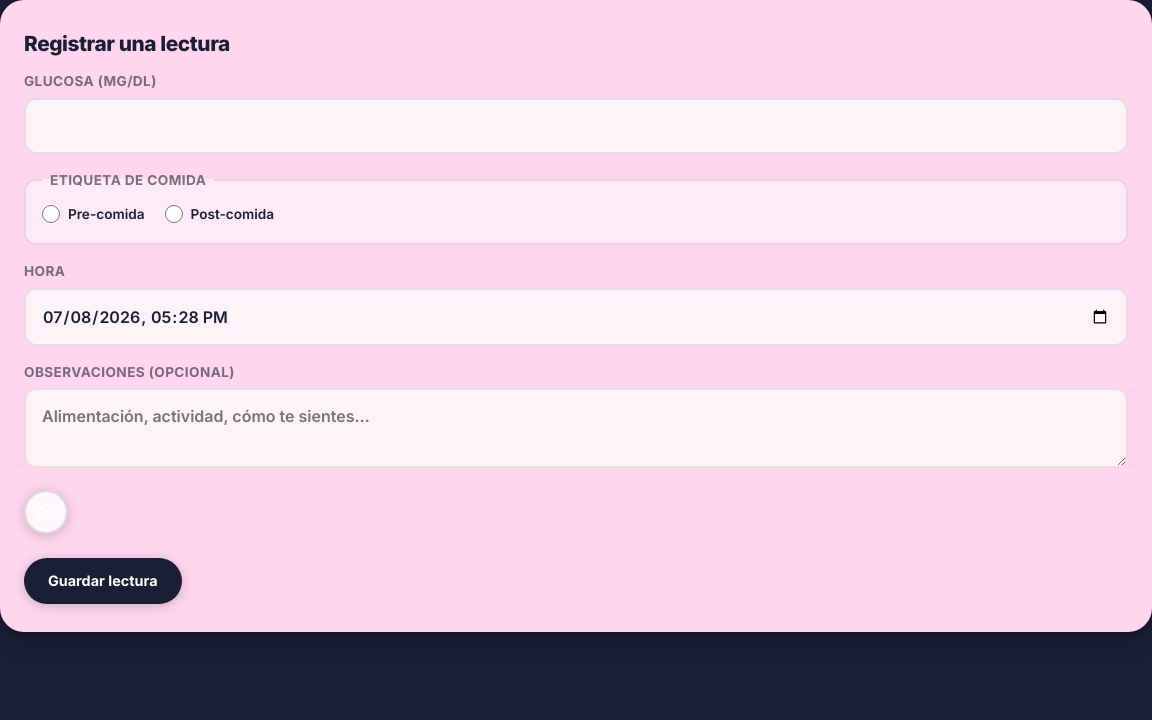
Scenario: QuickRecord validation and persist-failure notice › persists a valid reading and shows a success status (Req 5.6 success path)
Step 1. Type "120" into the number field labelled "Glucosa (mg/dL)" → (576, 126), box x1=24 y1=98 x2=1128 y2=154
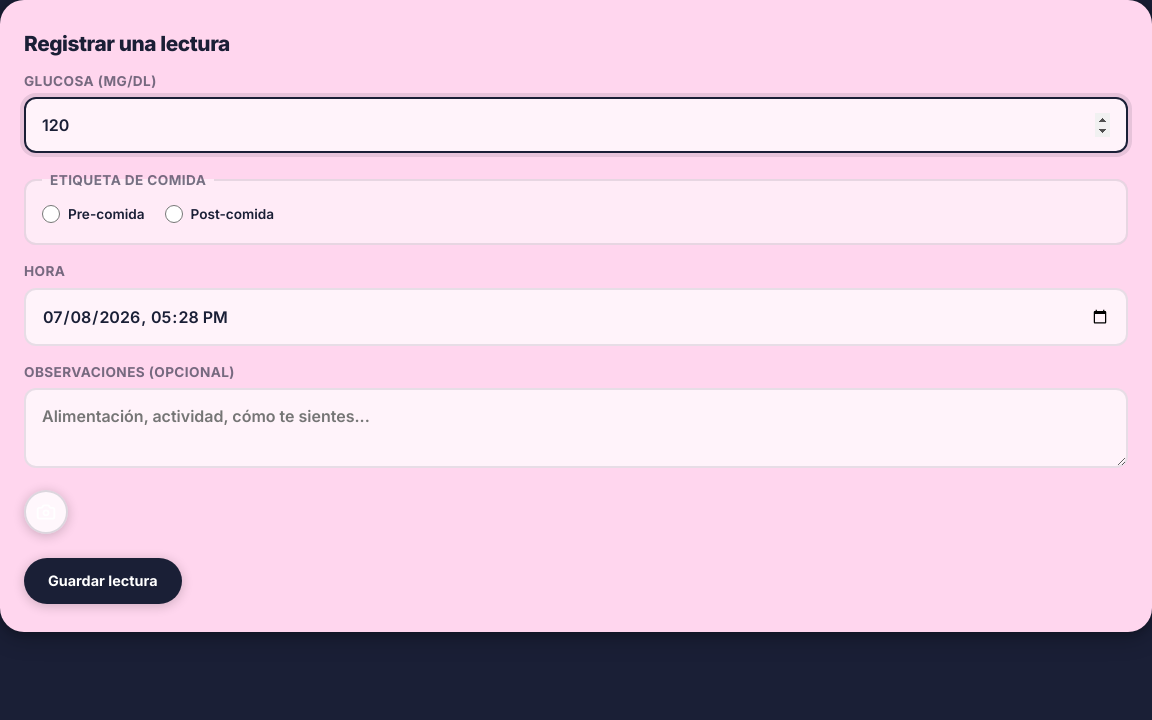
Step 2. Click the radio button labelled "Pre-comida" → (51, 214), box x1=42 y1=205 x2=60 y2=223
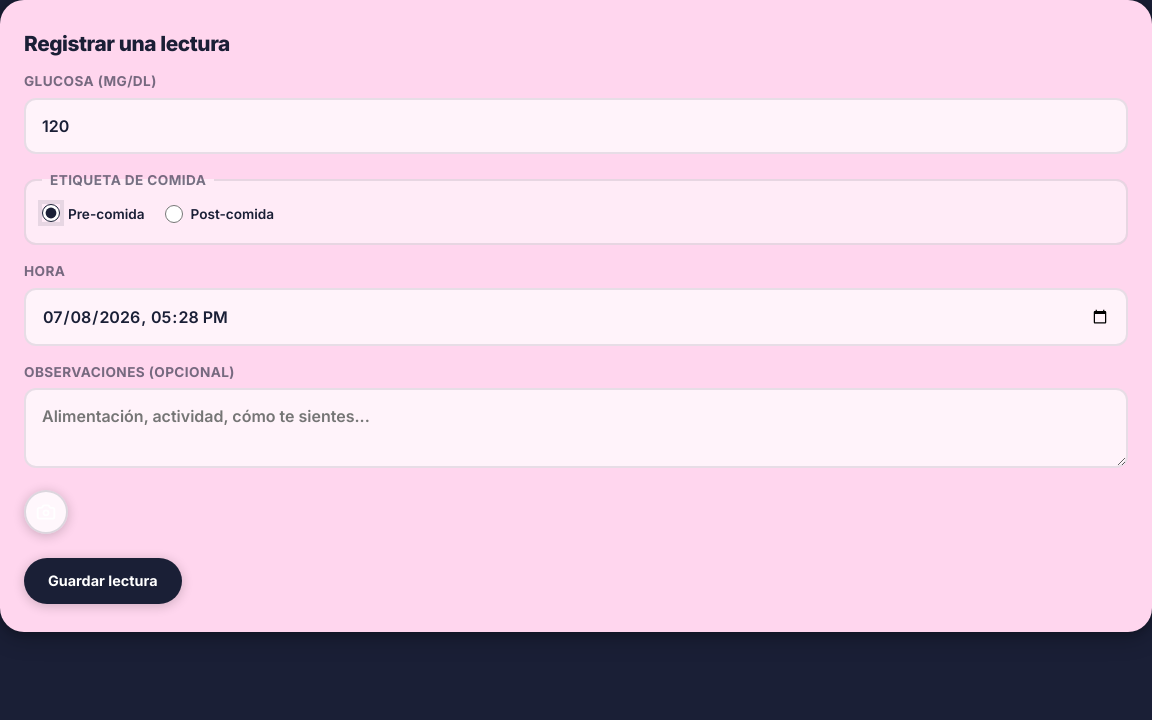
Step 3. Click the button "Guardar lectura" → (103, 581), box x1=24 y1=558 x2=182 y2=604
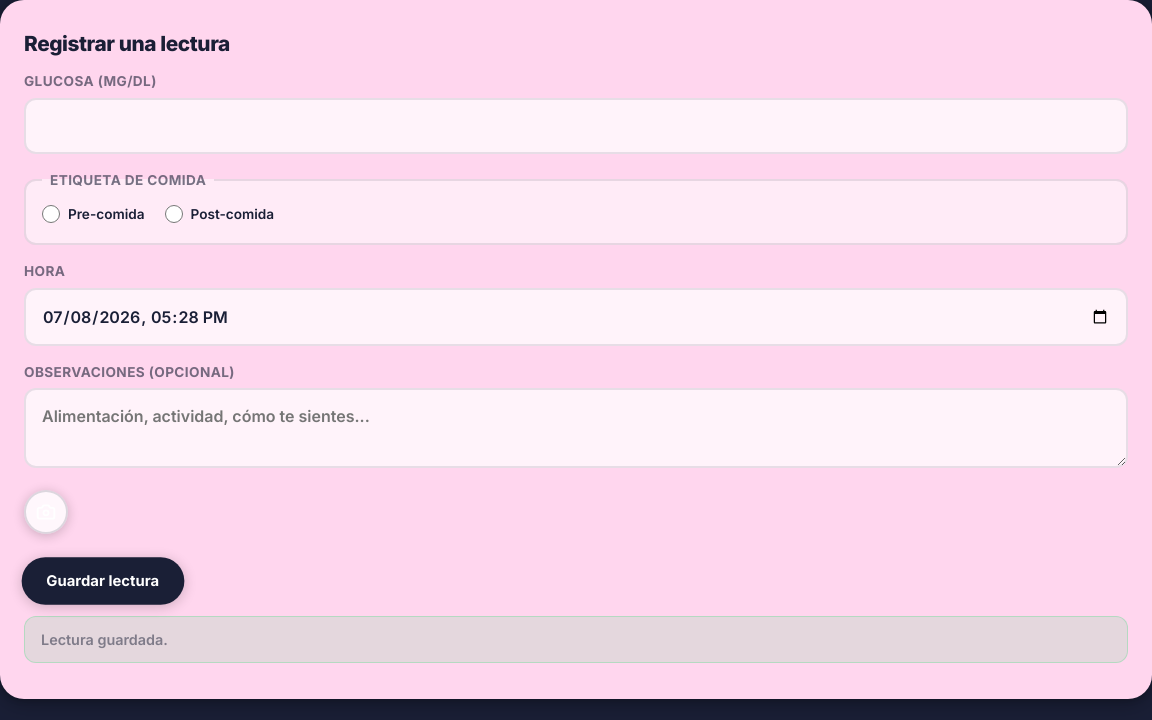
Now the message shows "Lectura guardada", box x1=41 y1=630 x2=168 y2=648
